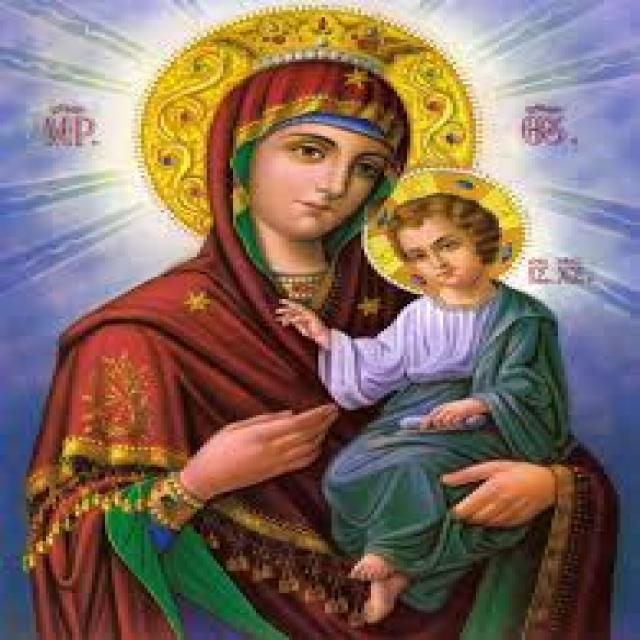mother of god: (36, 58, 606, 640)
